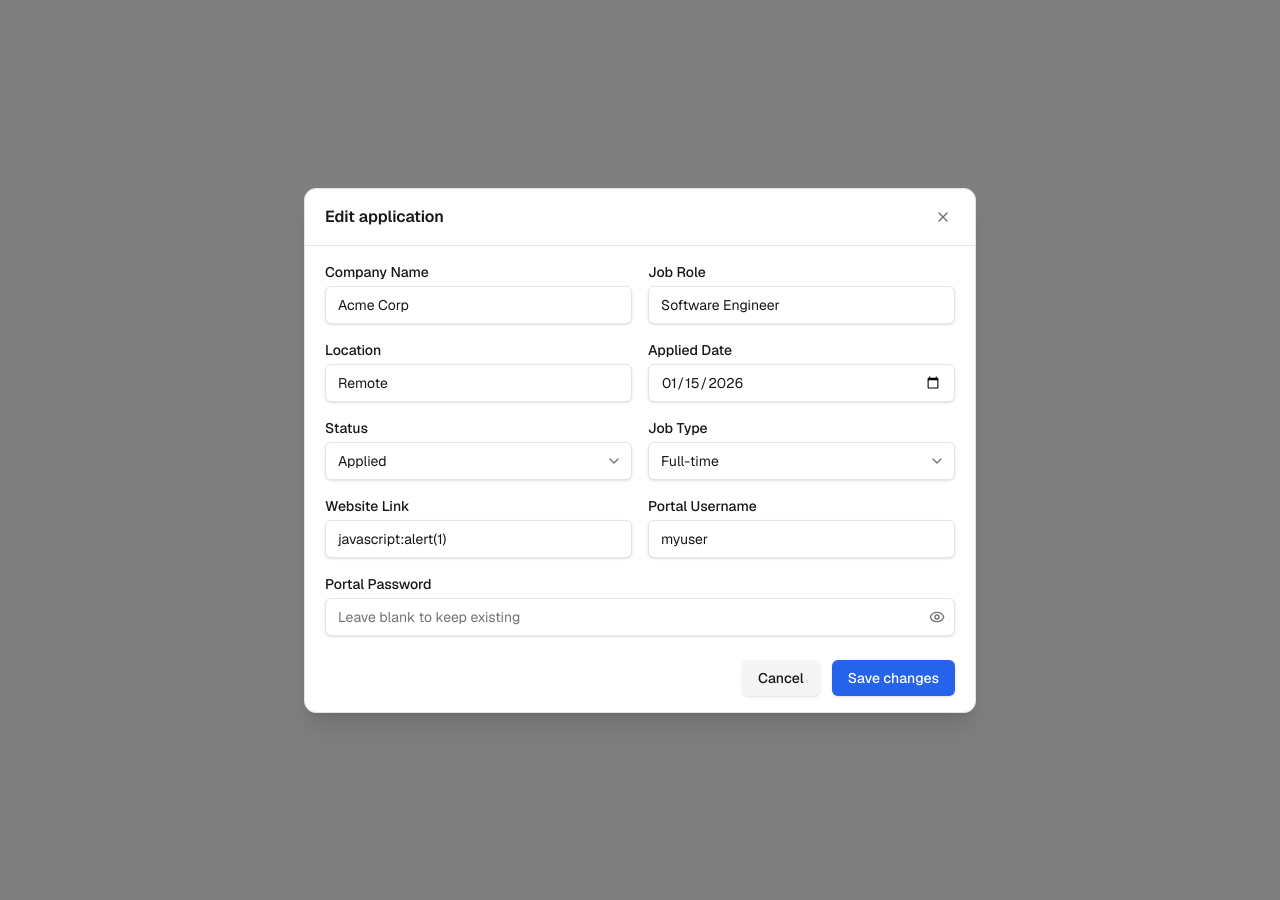
Test: EditModal › shows validation error for non-http website link
The image size is (1280, 900).
Step 1. Click the button "Save changes" → point(893, 678), box 832,660 -> 955,696
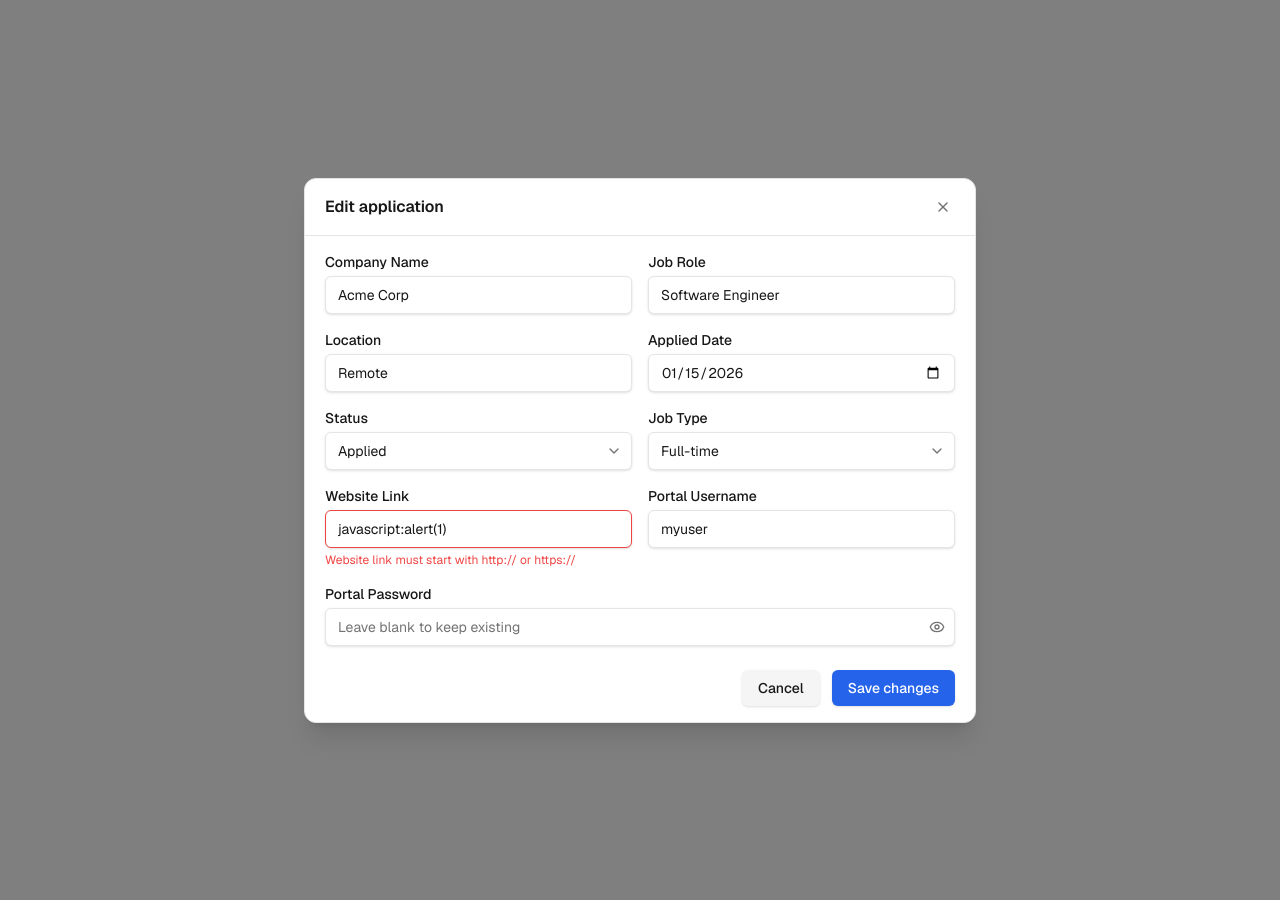
Expected: the text "Website link must start with http:// or https://" is shown, 325,552 -> 576,568
